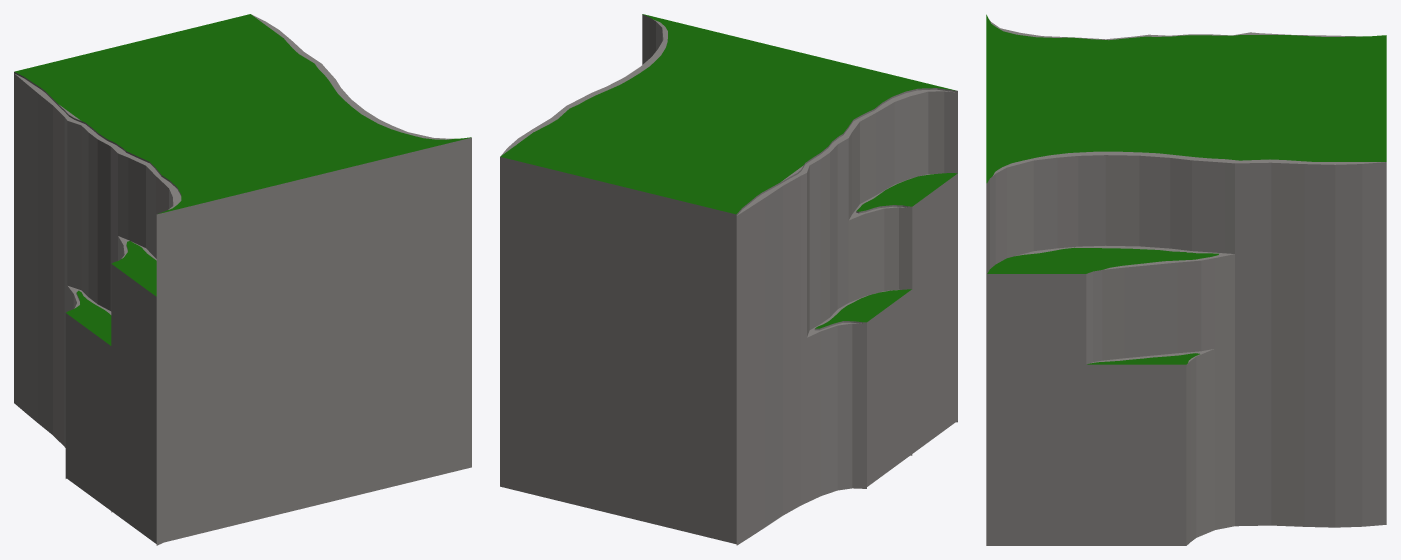
File: STMTS.fbx
3 views of the same model, side by side, from view 1: azimuth 30°, elevation 25°; view 2: azimuth 150°, elevation 25°; view 3: azimuth 270°, elevation 25° (orthographic). The views are drawn at different scales.
Visible parts, largest first — view 1: Plane.022; view 2: Plane.022; view 3: Plane.022.
Part boxes in pixels (box(x1,y1,x2,y2)): Plane.022: box(14, 14, 471, 545); Plane.022: box(500, 14, 957, 545); Plane.022: box(986, 14, 1386, 545).
Size of the model in its own units: 100 by 101 by 100.
